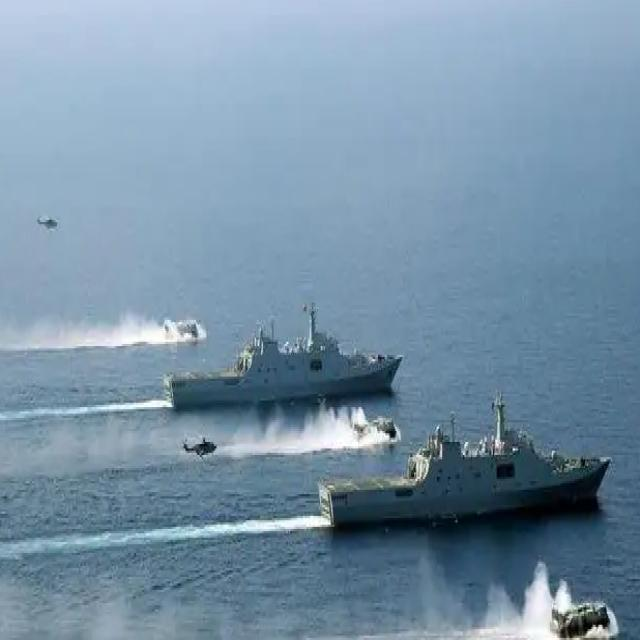houseboat: (551, 579, 613, 635), (350, 404, 404, 449)
navalvessels: (319, 387, 611, 535), (166, 308, 405, 409)
